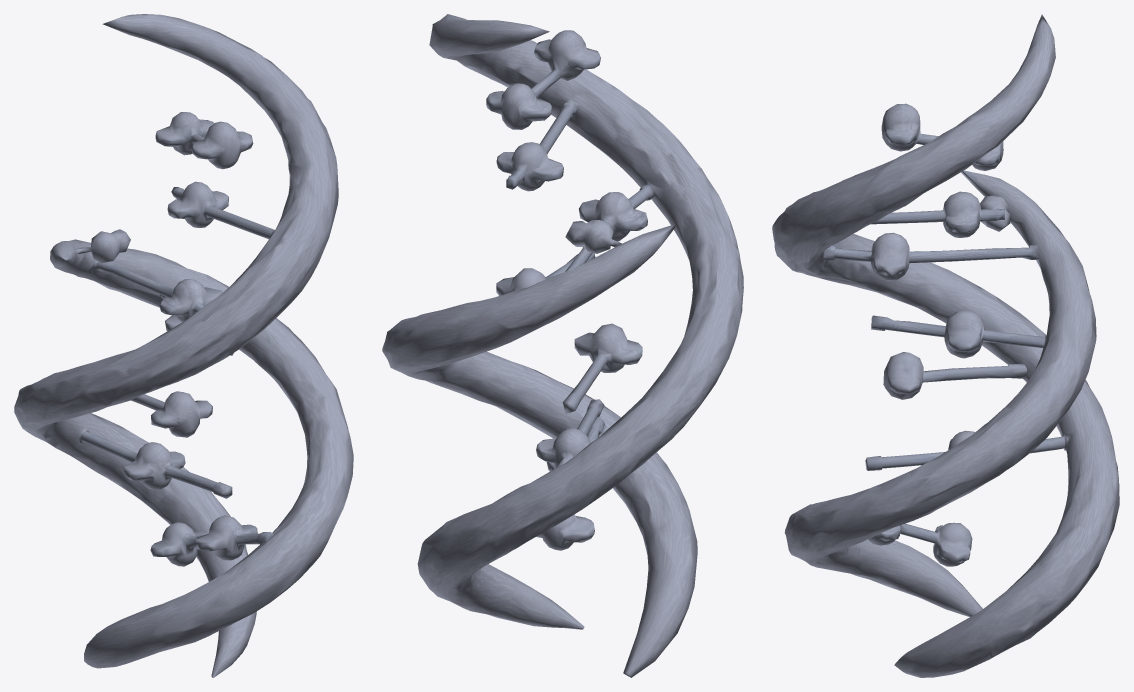
The model's file is anchor.glb.
The picture shows the model from 3 angles, left to right: view 1: azimuth 30°, elevation 25°; view 2: azimuth 150°, elevation 25°; view 3: azimuth 270°, elevation 25°; orthographic projection. The views are drawn at different scales.
Parts seen in each view (by area): view 1: tripo_node_01a4cefa-17f3-47f5-93f1-f0b5a9cf3707; view 2: tripo_node_01a4cefa-17f3-47f5-93f1-f0b5a9cf3707; view 3: tripo_node_01a4cefa-17f3-47f5-93f1-f0b5a9cf3707.
Boxes of the visible parts, x1=… form: tripo_node_01a4cefa-17f3-47f5-93f1-f0b5a9cf3707: x1=14, y1=14, x2=353, y2=677; tripo_node_01a4cefa-17f3-47f5-93f1-f0b5a9cf3707: x1=382, y1=14, x2=743, y2=677; tripo_node_01a4cefa-17f3-47f5-93f1-f0b5a9cf3707: x1=772, y1=14, x2=1119, y2=677.
Size of the model in its own units: 0.489 by 0.9808 by 0.487.
Materials: 1 (1 with a texture image).
